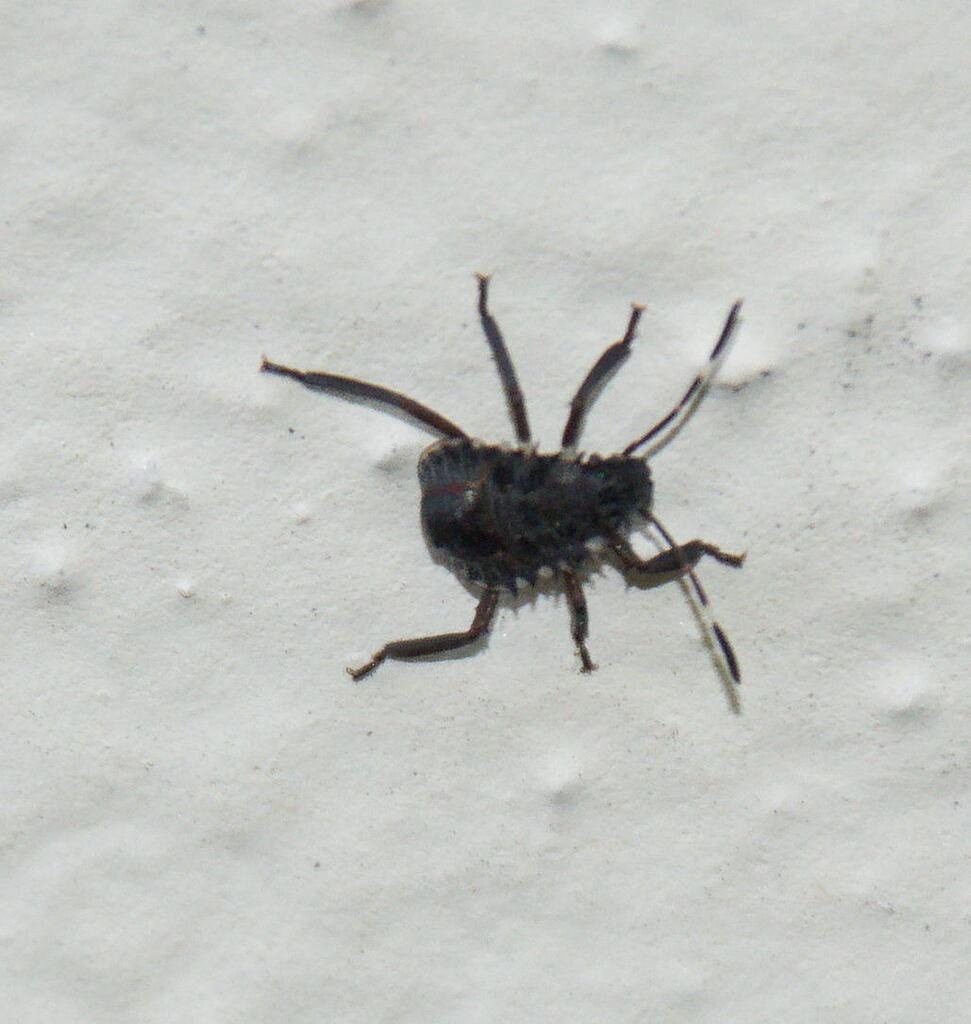stink_bugs: (207, 235, 863, 778)
